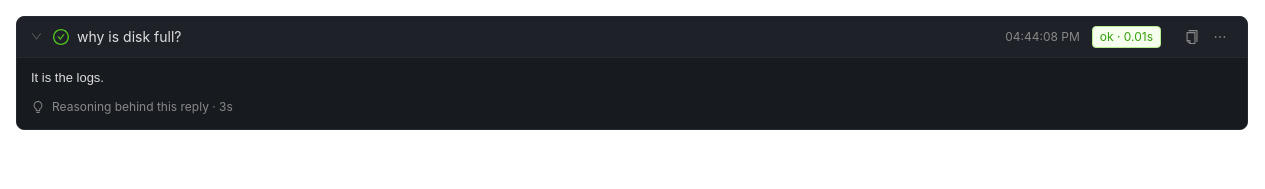
Test case: reasoning in the turn card › collapses the reply thought into a "Reasoning behind this reply" line
The image size is (1265, 189).
Click the button "Reasoning behind this reply · 3s". click: (132, 107)
box: [25,95,240,119]
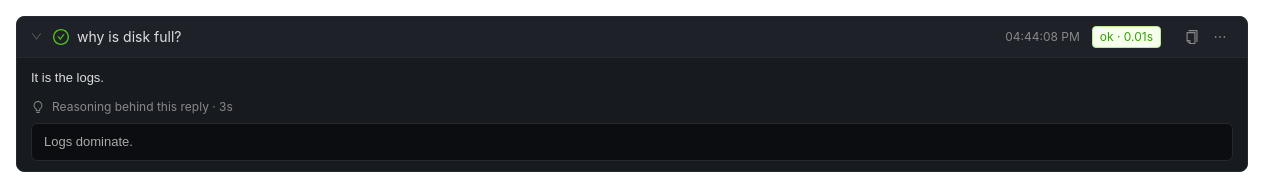
Result: the text with test id "reply-thought" reads "Logs dominate." at [44,134,133,149]
